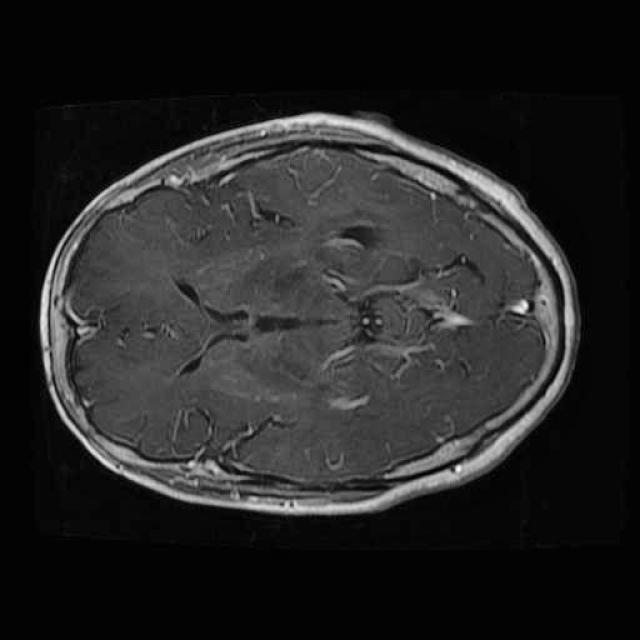Non-Tumor: (312, 209, 388, 272)
